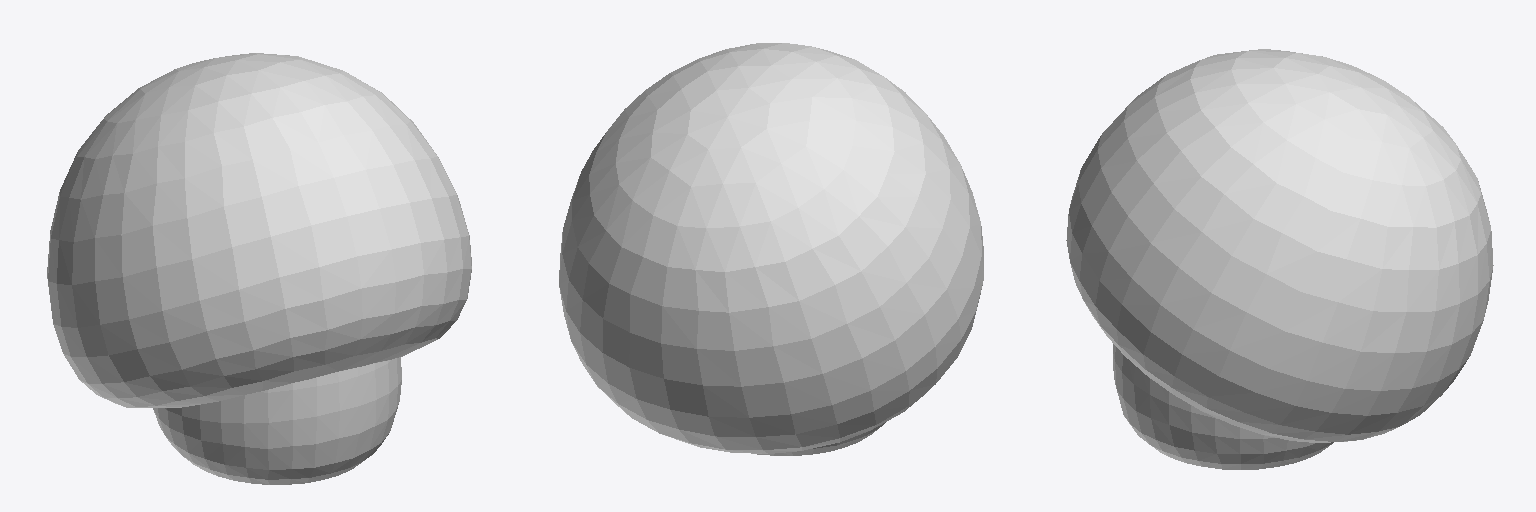
The model's file is wallPass.obj.
3 views of the same model, side by side, from view 1: azimuth 30°, elevation 25°; view 2: azimuth 150°, elevation 25°; view 3: azimuth 270°, elevation 25° (orthographic).
Parts seen in each view (by area): view 1: boo; view 2: boo; view 3: boo.
Part boxes in pixels (left/top/right/bottom): boo: left=47, top=53, right=471, bottom=484; boo: left=559, top=43, right=983, bottom=455; boo: left=1066, top=49, right=1493, bottom=469.
Bounding box in the file's own units: 1.41 × 1.37 × 1.41.